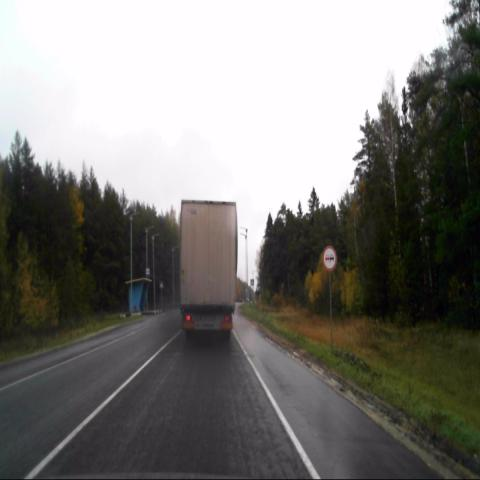3_20: (321, 245, 337, 272)
